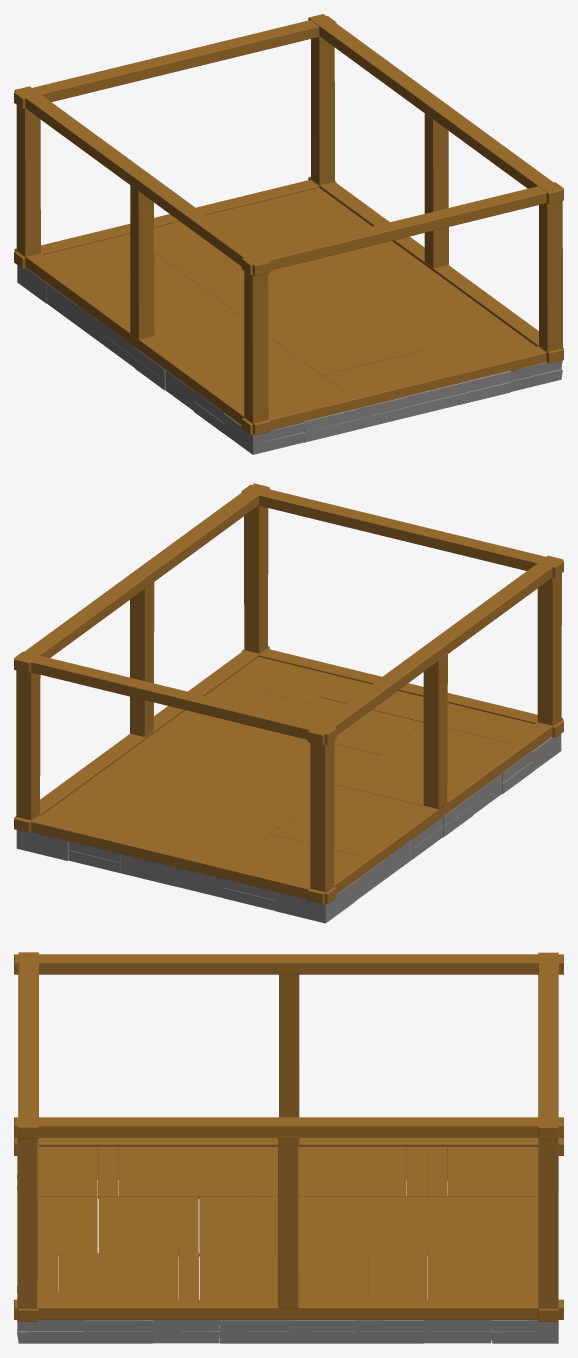
File: SM_SmallHouseConstruction.fbx
The picture shows the model from 3 angles, top to bottom: view 1: azimuth 30°, elevation 25°; view 2: azimuth 150°, elevation 25°; view 3: azimuth 270°, elevation 25°; orthographic projection. The views are drawn at different scales.
Visible parts, largest first — view 1: SM_SmallHouse_Construction; view 2: SM_SmallHouse_Construction; view 3: SM_SmallHouse_Construction.
Part boxes in pixels (x1,y1,x2,y2): SM_SmallHouse_Construction: [14, 14, 563, 454]; SM_SmallHouse_Construction: [14, 483, 563, 923]; SM_SmallHouse_Construction: [14, 952, 563, 1343].
Size of what is drawn, in the model's own units: 610 by 810 by 355.
